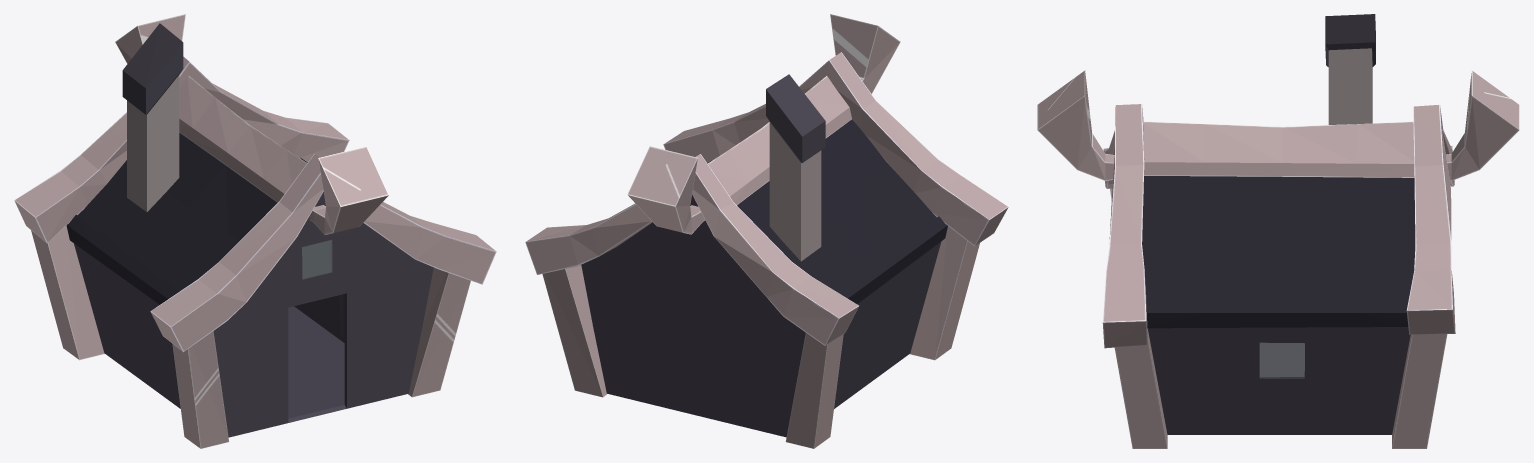
File: casametalfinal.fbx
The picture shows the model from 3 angles, left to right: view 1: azimuth 30°, elevation 25°; view 2: azimuth 150°, elevation 25°; view 3: azimuth 270°, elevation 25°; orthographic projection. The views are drawn at different scales.
Parts seen in each view (by area): view 1: polySurface21; view 2: polySurface21; view 3: polySurface21.
Part boxes in pixels (x1,y1,x2,y2): polySurface21: [14, 14, 496, 448]; polySurface21: [525, 14, 1008, 448]; polySurface21: [1037, 14, 1519, 448].
Size of the model in its own units: 114 by 109 by 137.
12 materials, 8 textured.
